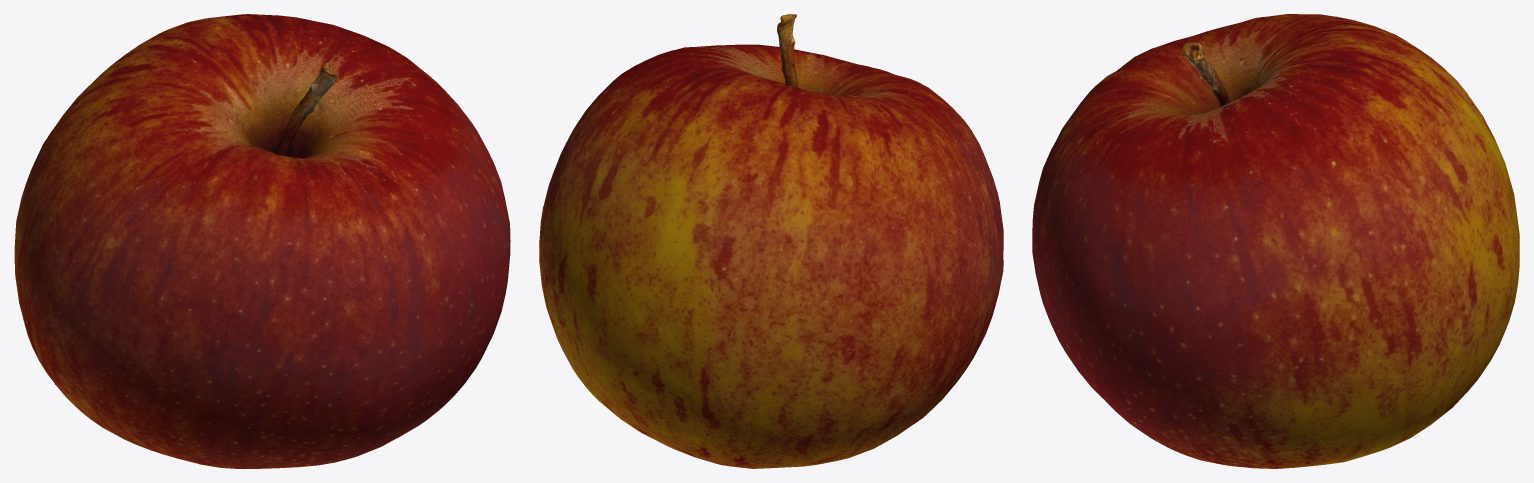
Rendered from food_apple_01.glb.
3 renders of one model, left to right at view 1: azimuth 30°, elevation 25°; view 2: azimuth 150°, elevation 25°; view 3: azimuth 270°, elevation 25°, orthographic. The views are drawn at different scales.
Parts seen in each view (by area): view 1: food_apple_01; view 2: food_apple_01; view 3: food_apple_01.
Part boxes in pixels (bbox=[...]): food_apple_01: bbox=[14, 14, 510, 468]; food_apple_01: bbox=[539, 14, 1003, 468]; food_apple_01: bbox=[1032, 14, 1519, 468].
Bounding box in the file's own units: 0.0976 × 0.0854 × 0.0959.
Materials: 1 (1 with a texture image).
